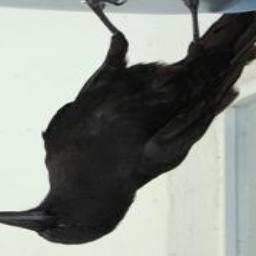Crow: (0, 0, 256, 246)
